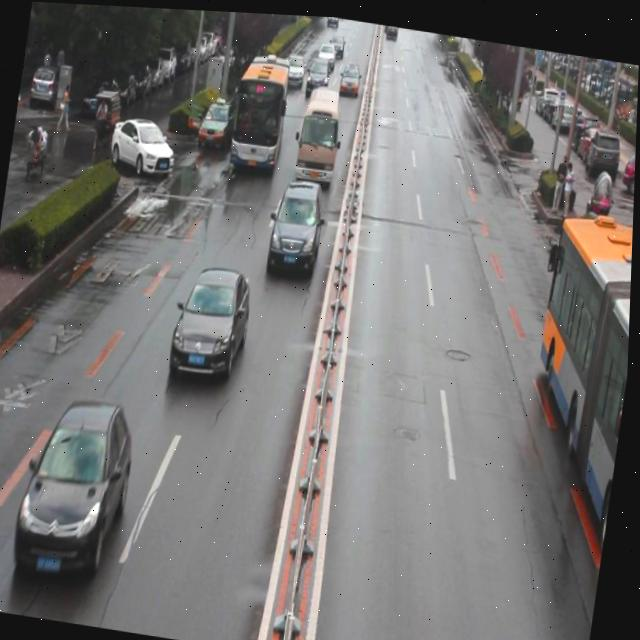car: (13, 395, 140, 579), (173, 259, 255, 386), (266, 173, 327, 276), (108, 116, 179, 180), (195, 105, 237, 162)
truck: (293, 82, 343, 182)
van: (507, 213, 634, 577), (230, 50, 293, 168)
